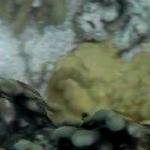alive: (11, 7, 147, 146)
